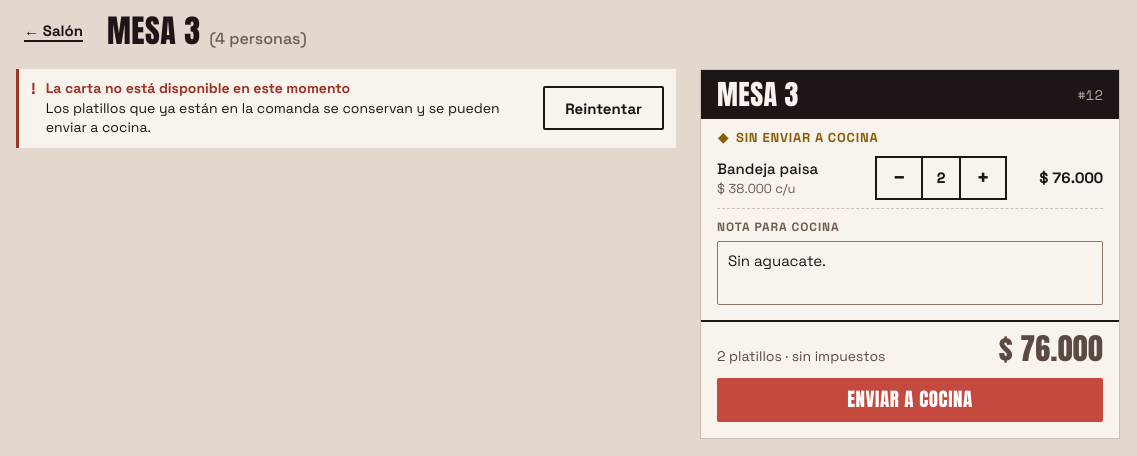
TomaPedido › cuando la carta vuelve, reintentar la trae de nuevo
The image size is (1137, 456).
Click the button "Reintentar".
click(604, 108)  # box 543,86 -> 664,130
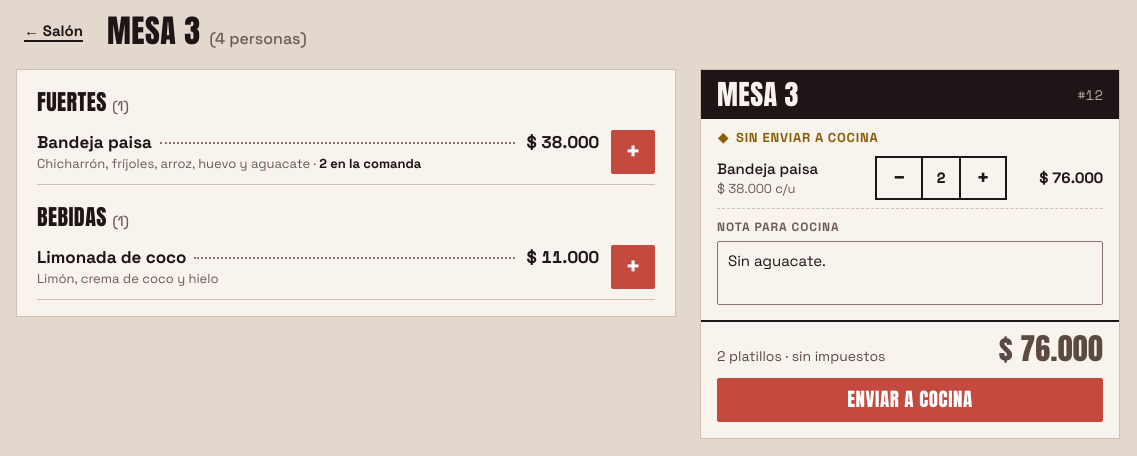
Check: the button named "Agregar Bandeja paisa" is shown, box 611,130 -> 655,174
Check: the text "La carta no está disponible en este momento" is gone
